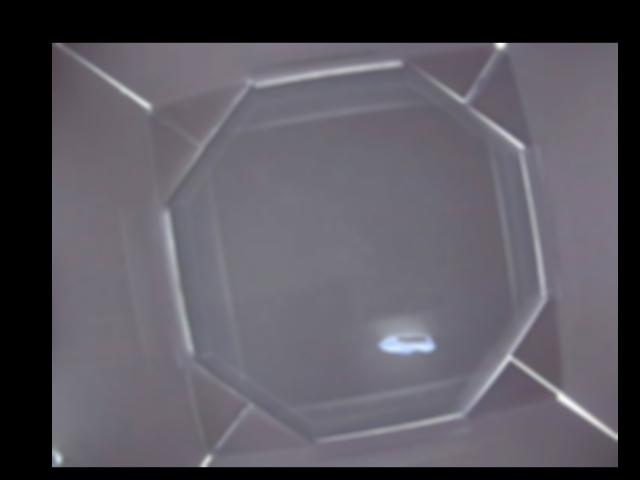China: (377, 331, 433, 356)
